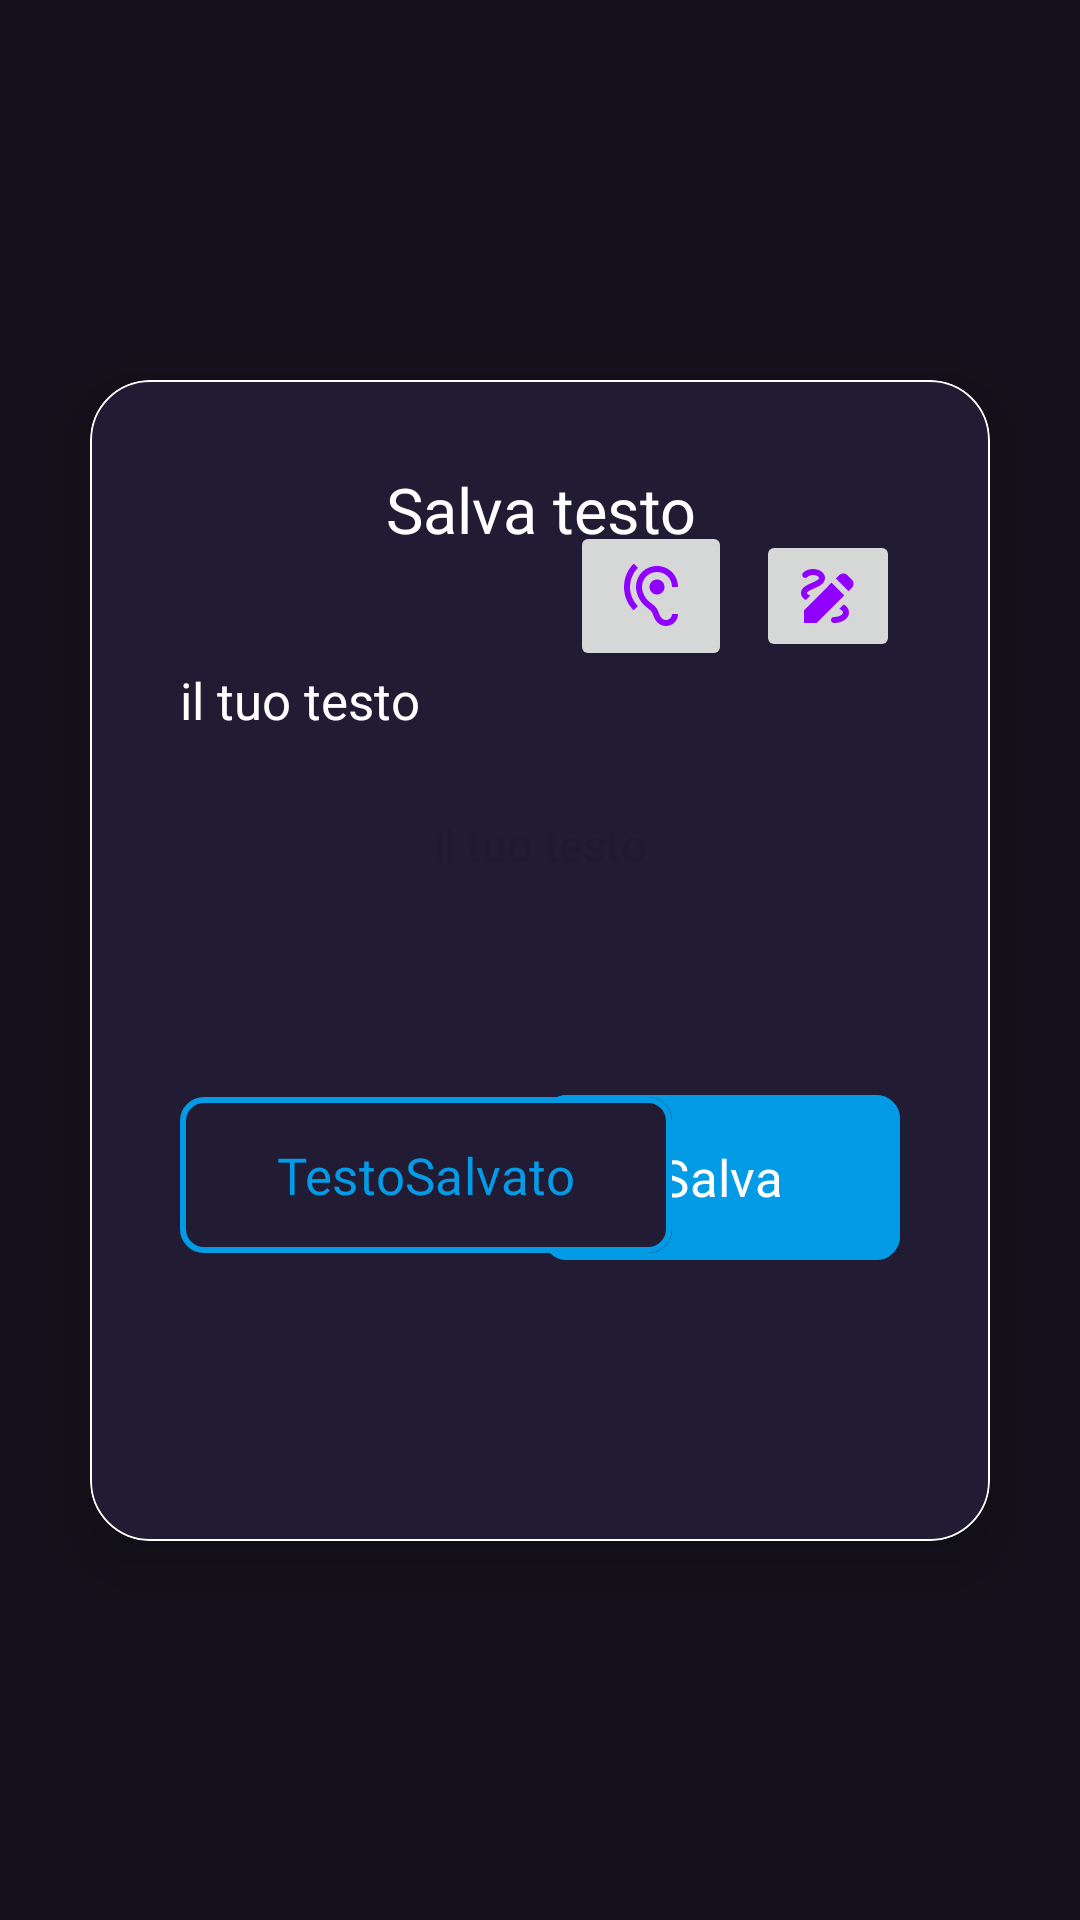

Screen size 1080*1920. Icon name, then its box in pixels as bbox=[x1, y1, x2, y2]:
draw: bbox=[768, 548, 888, 644]
hear: bbox=[582, 539, 720, 653]
